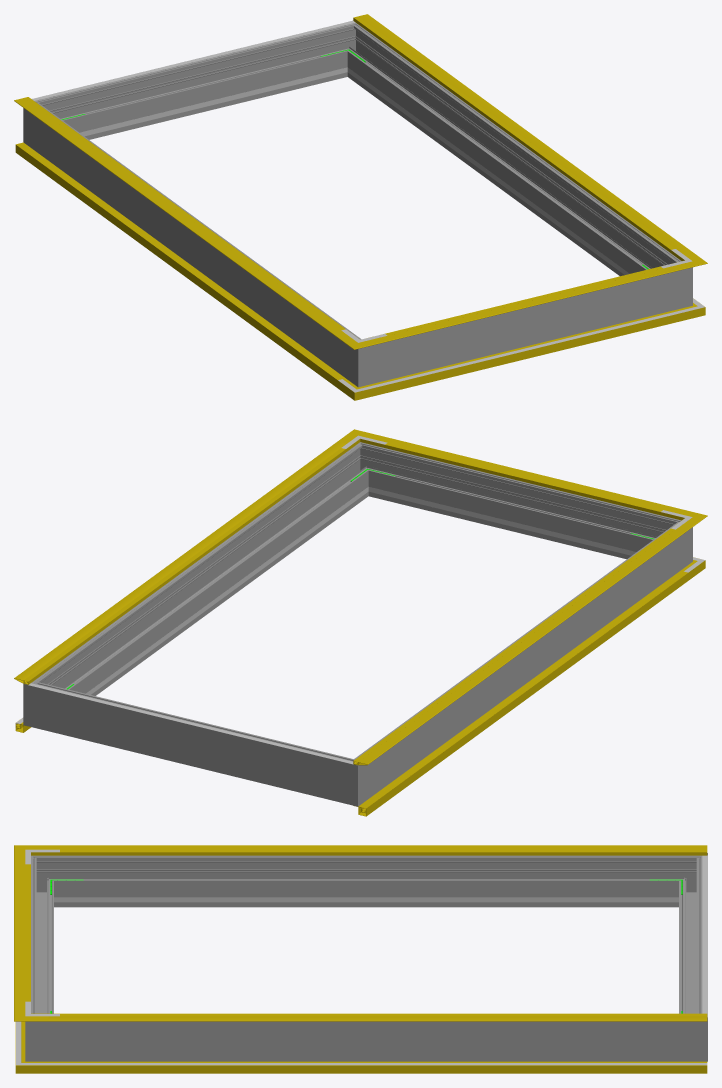
The picture shows the model from 3 angles, top to bottom: view 1: azimuth 30°, elevation 25°; view 2: azimuth 150°, elevation 25°; view 3: azimuth 270°, elevation 25°; orthographic projection.
Visible parts, largest first — view 1: 3DGeom-297, 3DGeom-276, 3DGeom-268, 3DGeom-298, 3DGeom-145, 3DGeom-6, 3DGeom-147, 3DGeom-11, 3DGeom-141, 3DGeom-270, 3DGeom-25, 3DGeom-152 (+9 smaller); view 2: 3DGeom-297, 3DGeom-298, 3DGeom-276, 3DGeom-268, 3DGeom-145, 3DGeom-6, 3DGeom-147, 3DGeom-141, 3DGeom-278, 3DGeom-25, 3DGeom-154, 3DGeom-152 (+7 smaller); view 3: 3DGeom-268, 3DGeom-297, 3DGeom-16, 3DGeom-147, 3DGeom-145, 3DGeom-232, 3DGeom-276, 3DGeom-298, 3DGeom-154, 3DGeom-18, 3DGeom-152, 3DGeom-141 (+7 smaller).
Boxes of the visible parts, bbox=[...] form: 3DGeom-297: bbox=[350, 33, 670, 276]; 3DGeom-276: bbox=[55, 28, 342, 139]; 3DGeom-268: bbox=[40, 111, 350, 374]; 3DGeom-298: bbox=[387, 274, 663, 379]; 3DGeom-145: bbox=[353, 14, 690, 256]; 3DGeom-6: bbox=[15, 142, 345, 387]; 3DGeom-147: bbox=[14, 98, 346, 336]; 3DGeom-11: bbox=[380, 311, 675, 393]; 3DGeom-141: bbox=[378, 266, 678, 342]; 3DGeom-270: bbox=[341, 331, 387, 387]; 3DGeom-25: bbox=[16, 143, 341, 379]; 3DGeom-152: bbox=[354, 16, 675, 249]; 3DGeom-297: bbox=[45, 452, 365, 695]; 3DGeom-298: bbox=[373, 448, 660, 559]; 3DGeom-276: bbox=[52, 687, 333, 799]; 3DGeom-268: bbox=[365, 530, 675, 793]; 3DGeom-145: bbox=[14, 441, 351, 684]; 3DGeom-6: bbox=[353, 570, 688, 816]; 3DGeom-147: bbox=[353, 525, 690, 765]; 3DGeom-141: bbox=[375, 436, 677, 517]; 3DGeom-278: bbox=[328, 751, 374, 806]; 3DGeom-25: bbox=[361, 571, 687, 808]; 3DGeom-154: bbox=[353, 528, 675, 762]; 3DGeom-152: bbox=[24, 448, 345, 682]; 3DGeom-268: bbox=[60, 855, 673, 907]; 3DGeom-297: bbox=[60, 1021, 673, 1061]; 3DGeom-16: bbox=[50, 1061, 707, 1073]; 3DGeom-147: bbox=[48, 845, 707, 855]; 3DGeom-145: bbox=[48, 1013, 707, 1021]; 3DGeom-232: bbox=[87, 897, 645, 902]; 3DGeom-276: bbox=[679, 867, 702, 1013]; 3DGeom-298: bbox=[31, 867, 53, 1013]; 3DGeom-154: bbox=[60, 849, 707, 852]; 3DGeom-18: bbox=[50, 1063, 707, 1065]; 3DGeom-152: bbox=[60, 1014, 707, 1016]; 3DGeom-141: bbox=[14, 859, 25, 1006].
Size of the model in its own units: 1.83 by 0.2596 by 3.05.
